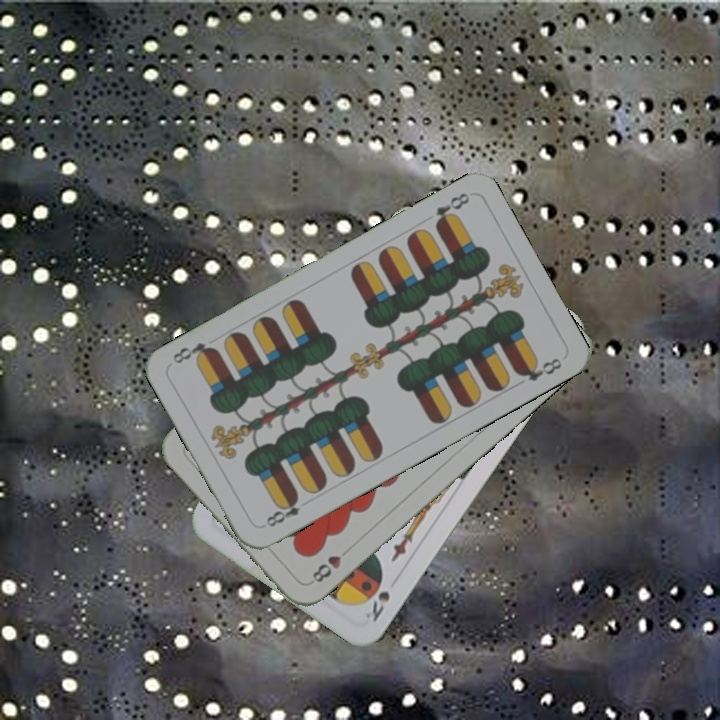E8: (431, 188, 473, 231), (258, 491, 303, 530)
H8: (308, 544, 354, 586)
SK: (361, 587, 393, 625)
